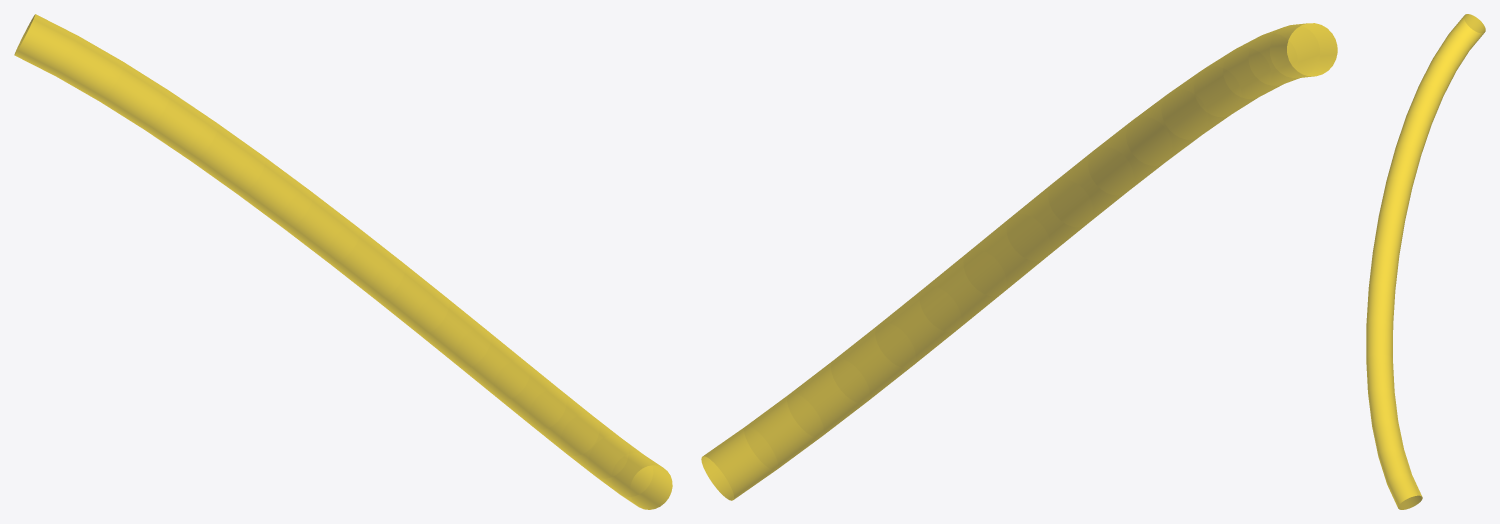
Rendered from Event_40932208_track_24.fbx.
The picture shows the model from 3 angles, left to right: view 1: azimuth 30°, elevation 25°; view 2: azimuth 150°, elevation 25°; view 3: azimuth 270°, elevation 25°; orthographic projection. The views are drawn at different scales.
Visible parts, largest first — view 1: Model; view 2: Model; view 3: Model.
Boxes of the visible parts, x1,y1,x2,y2 form: Model: (14, 14, 672, 509); Model: (701, 23, 1337, 500); Model: (1366, 14, 1485, 509).
Size of the model in its own units: 0.5958 by 0.5573 by 0.1782.
